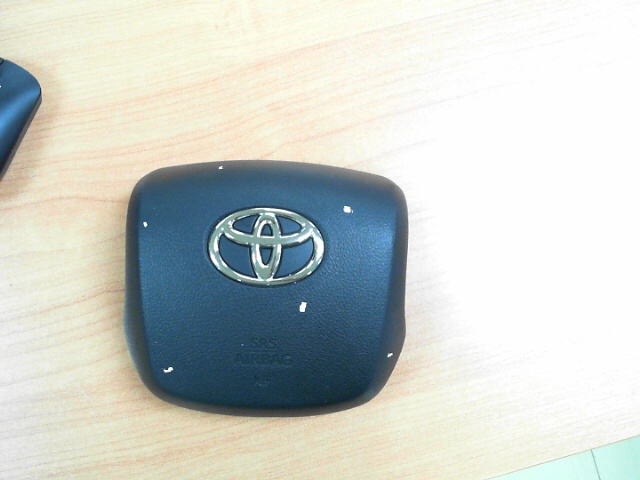Airbag: (343, 205, 354, 215), (299, 301, 307, 312), (163, 367, 173, 373), (387, 352, 393, 358), (218, 165, 224, 169), (143, 222, 147, 228)
